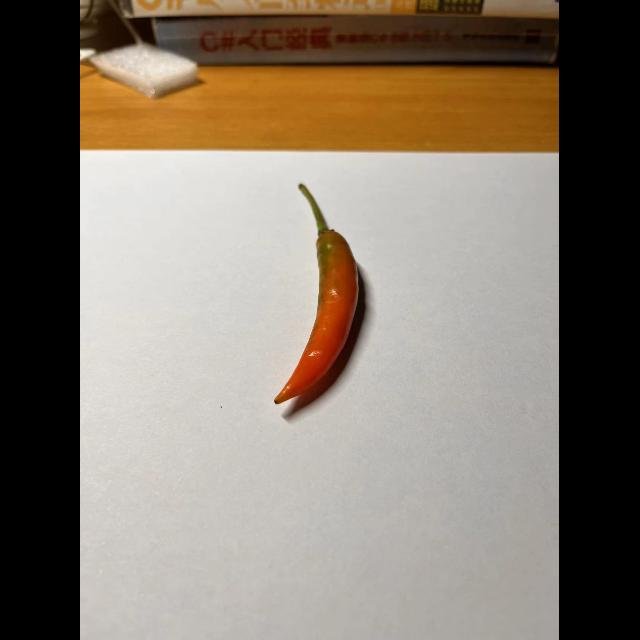chili_pepper: (268, 179, 370, 411)
